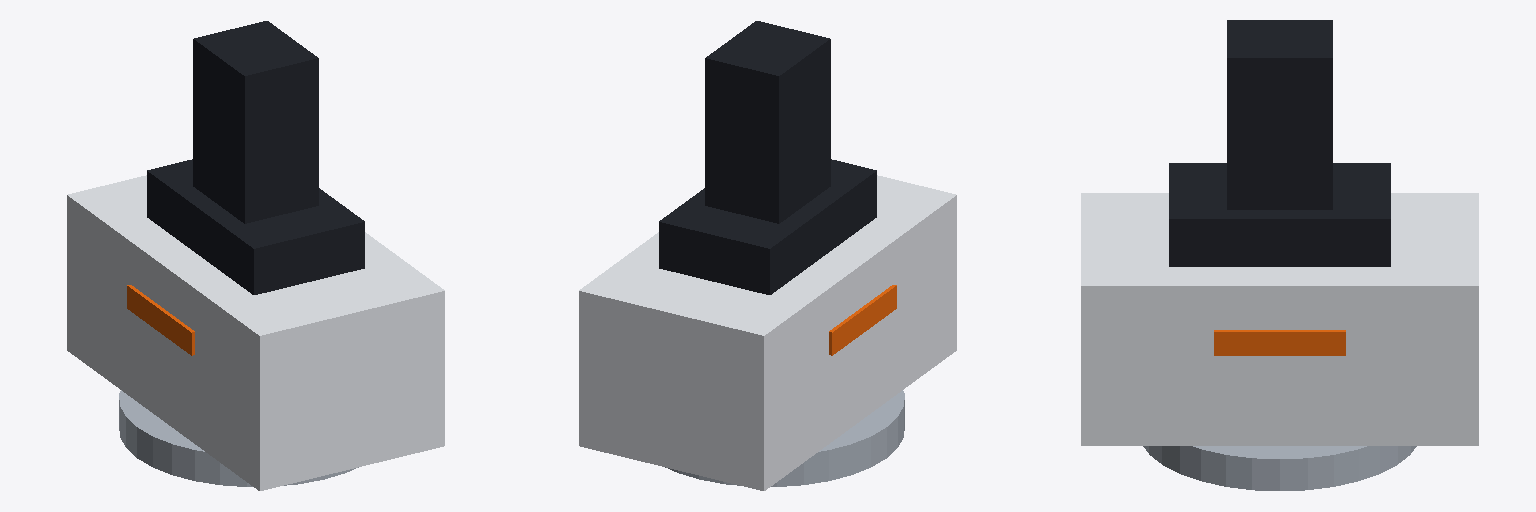
robot.urdf — tool_gripper:
<?xml version="1.0"?>
<!-- Outil : pince parallele 2 doigts.
     Convention d'interface (commune a tous les outils) :
       - tool_mount : lien RACINE, repere de montage. Son origine/axes se superposent a la
                      bride (flange) du robot : z sortant de la face de l'outil.
       - tcp        : Tool Center Point, point de travail (ici milieu des bouts de doigts).
     Joint actionne : gripper_finger_left_joint (prismatique, 0 = ferme, 0.04 m = ouvert par doigt).
     Le doigt droit suit le gauche (mimic). -->
<robot name="tool_gripper">

  <link name="tool_mount">
    <visual>
      <geometry><cylinder length="0.008" radius="0.032"/></geometry>
      <origin xyz="0 0 0.004" rpy="0 0 0"/>
      <material name="silver"><color rgba="0.72 0.75 0.79 1"/></material>
    </visual>
    <visual>
      <geometry><box size="0.05 0.09 0.04"/></geometry>
      <origin xyz="0 0 0.028" rpy="0 0 0"/>
      <material name="white"><color rgba="0.93 0.94 0.96 1"/></material>
    </visual>
    <visual>
      <geometry><box size="0.052 0.03 0.006"/></geometry>
      <origin xyz="0 0 0.034" rpy="0 0 0"/>
      <material name="orange"><color rgba="0.96 0.46 0.1 1"/></material>
    </visual>
    <visual>
      <geometry><box size="0.03 0.05 0.012"/></geometry>
      <origin xyz="0 0 0.054" rpy="0 0 0"/>
      <material name="graphite"><color rgba="0.17 0.18 0.21 1"/></material>
    </visual>
    <collision>
      <geometry><box size="0.05 0.09 0.048"/></geometry>
      <origin xyz="0 0 0.024" rpy="0 0 0"/>
    </collision>
    <inertial>
      <mass value="0.35"/>
      <origin xyz="0 0 0.026" rpy="0 0 0"/>
      <inertia ixx="0.000303" ixy="0.0" ixz="0.0" iyy="0.000140" iyz="0.0" izz="0.000309"/>
    </inertial>
  </link>

  <link name="gripper_finger_left">
    <visual>
      <geometry><box size="0.02 0.012 0.05"/></geometry>
      <origin xyz="0 0.006 0.025" rpy="0 0 0"/>
      <material name="graphite"><color rgba="0.17 0.18 0.21 1"/></material>
    </visual>
    <visual>
      <geometry><box size="0.018 0.003 0.026"/></geometry>
      <origin xyz="0 -0.0005 0.035" rpy="0 0 0"/>
      <material name="rubber"><color rgba="0.04 0.04 0.04 1"/></material>
    </visual>
    <collision>
      <geometry><box size="0.02 0.012 0.05"/></geometry>
      <origin xyz="0 0.006 0.025" rpy="0 0 0"/>
    </collision>
    <inertial>
      <mass value="0.05"/>
      <origin xyz="0 0.006 0.025" rpy="0 0 0"/>
      <inertia ixx="0.000011" ixy="0.0" ixz="0.0" iyy="0.000012" iyz="0.0" izz="0.000002"/>
    </inertial>
  </link>

  <link name="gripper_finger_right">
    <visual>
      <geometry><box size="0.02 0.012 0.05"/></geometry>
      <origin xyz="0 0.006 0.025" rpy="0 0 0"/>
      <material name="graphite"><color rgba="0.17 0.18 0.21 1"/></material>
    </visual>
    <visual>
      <geometry><box size="0.018 0.003 0.026"/></geometry>
      <origin xyz="0 -0.0005 0.035" rpy="0 0 0"/>
      <material name="rubber"><color rgba="0.04 0.04 0.04 1"/></material>
    </visual>
    <collision>
      <geometry><box size="0.02 0.012 0.05"/></geometry>
      <origin xyz="0 0.006 0.025" rpy="0 0 0"/>
    </collision>
    <inertial>
      <mass value="0.05"/>
      <origin xyz="0 0.006 0.025" rpy="0 0 0"/>
      <inertia ixx="0.000011" ixy="0.0" ixz="0.0" iyy="0.000012" iyz="0.0" izz="0.000002"/>
    </inertial>
  </link>

  <joint name="gripper_finger_left_joint" type="prismatic">
    <parent link="tool_mount"/>
    <child link="gripper_finger_left"/>
    <origin xyz="0 0 0.048" rpy="0 0 0"/>
    <axis xyz="0 1 0"/>
    <limit effort="40.0" velocity="0.15" lower="0.0" upper="0.04"/>
    <dynamics damping="2.0" friction="0.5"/>
  </joint>

  <!-- Doigt droit : repere tourne de 180 deg autour de z, son +y local pointe vers -y -->
  <joint name="gripper_finger_right_joint" type="prismatic">
    <parent link="tool_mount"/>
    <child link="gripper_finger_right"/>
    <origin xyz="0 0 0.048" rpy="0 0 3.14159"/>
    <axis xyz="0 1 0"/>
    <limit effort="40.0" velocity="0.15" lower="0.0" upper="0.04"/>
    <dynamics damping="2.0" friction="0.5"/>
    <mimic joint="gripper_finger_left_joint" multiplier="1.0" offset="0.0"/>
  </joint>

  <!-- Point de travail : milieu des plaquettes, 0.04 m au-dessus de la base des doigts -->
  <link name="tcp"/>
  <joint name="tool_mount_to_tcp" type="fixed">
    <parent link="tool_mount"/>
    <child link="tcp"/>
    <origin xyz="0 0 0.088" rpy="0 0 0"/>
  </joint>

</robot>

--- What the picture shows (computed from the rendered views, not written in the file) ---
3 views of the same robot in one strip: view 1: azimuth 30°, elevation 25°; view 2: azimuth 150°, elevation 25°; view 3: azimuth 270°, elevation 25° (orthographic).
Model tool_gripper with 4 links and 3 joints (2 prismatic, 1 fixed), rooted at tool_mount, posed all joints at 0.
Visible links, largest first — view 1: tool_mount, gripper_finger_right, gripper_finger_left; view 2: tool_mount, gripper_finger_left, gripper_finger_right; view 3: tool_mount, gripper_finger_left, gripper_finger_right.
Link boxes in pixels (x1,y1,x2,y2): tool_mount: [67, 159, 444, 490]; gripper_finger_right: [219, 39, 318, 223]; gripper_finger_left: [193, 21, 291, 204]; tool_mount: [579, 159, 956, 490]; gripper_finger_left: [705, 39, 804, 223]; gripper_finger_right: [732, 21, 830, 204]; tool_mount: [1081, 163, 1478, 490]; gripper_finger_left: [1280, 20, 1332, 209]; gripper_finger_right: [1227, 20, 1279, 209].
Bounding box of the posed robot: 0.064 × 0.09 × 0.098 m (x, y, z).
Geometry: primitives only (box / cylinder / sphere), no mesh files.
